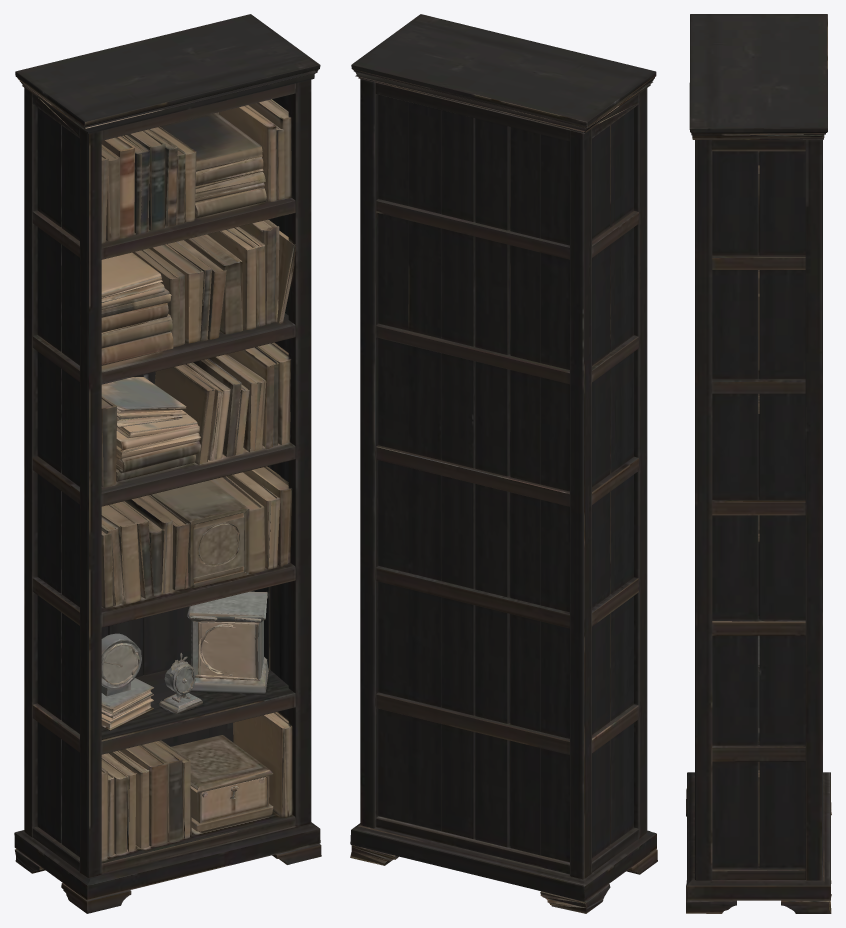
File: bookshelf.glb
The picture shows the model from 3 angles, left to right: view 1: azimuth 30°, elevation 25°; view 2: azimuth 150°, elevation 25°; view 3: azimuth 270°, elevation 25°; orthographic projection.
Bounding box in the file's own units: 0.6241 × 2 × 0.3362.
1 material, 1 textured.
